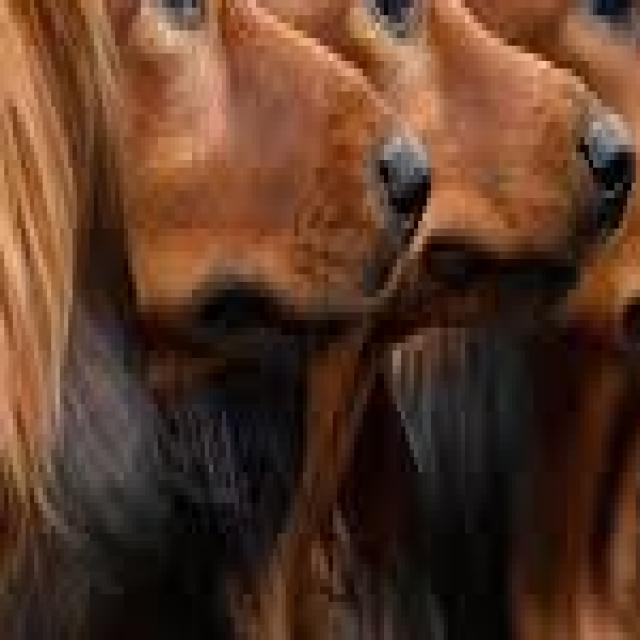dog: (0, 0, 452, 640), (375, 0, 640, 640), (184, 0, 632, 335)
